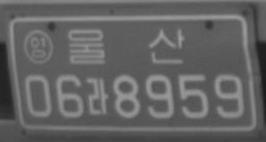0: (23, 74, 53, 119)
5: (178, 73, 210, 119)
6: (55, 73, 84, 119)
8: (111, 74, 140, 119)
9: (144, 73, 175, 119), (214, 73, 245, 119)
라: (85, 76, 108, 114)
영: (23, 29, 53, 65)
울산_D: (67, 27, 186, 64)
